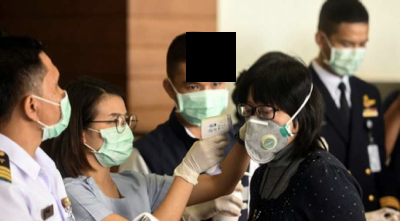with_mask: (238, 100, 290, 164), (175, 73, 230, 127), (90, 110, 135, 170), (39, 73, 71, 141), (327, 36, 366, 76)
